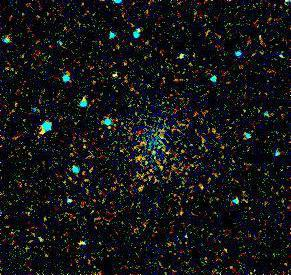star: (28, 116, 58, 146)
